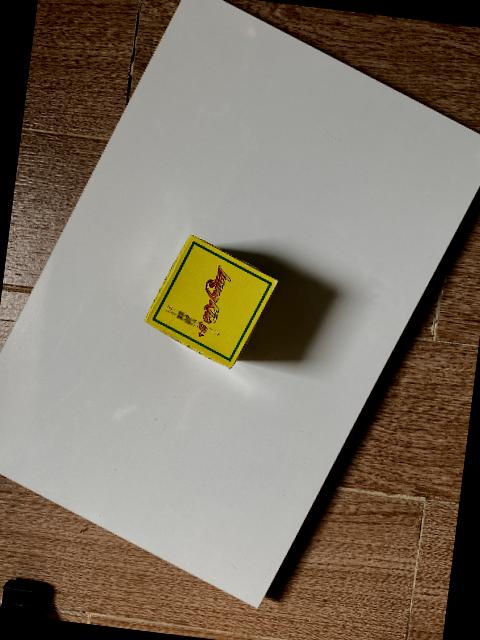luong_kho: (144, 235, 278, 369)
